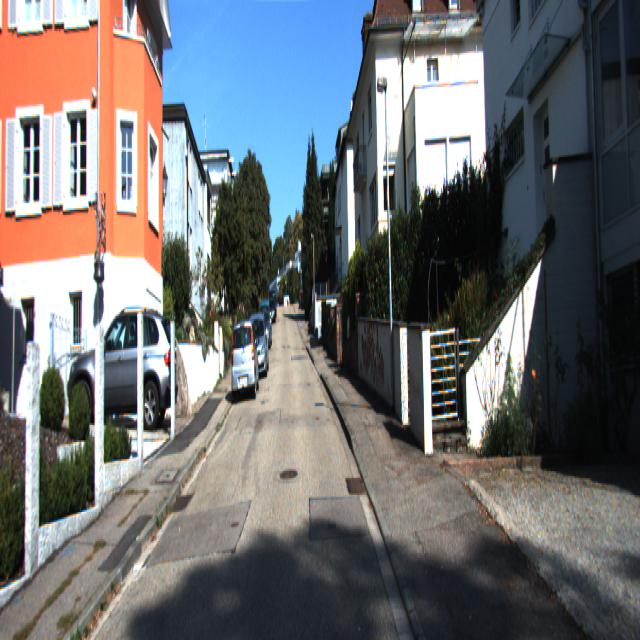Car: (69, 302, 180, 434), (230, 315, 260, 402), (243, 312, 270, 379)
